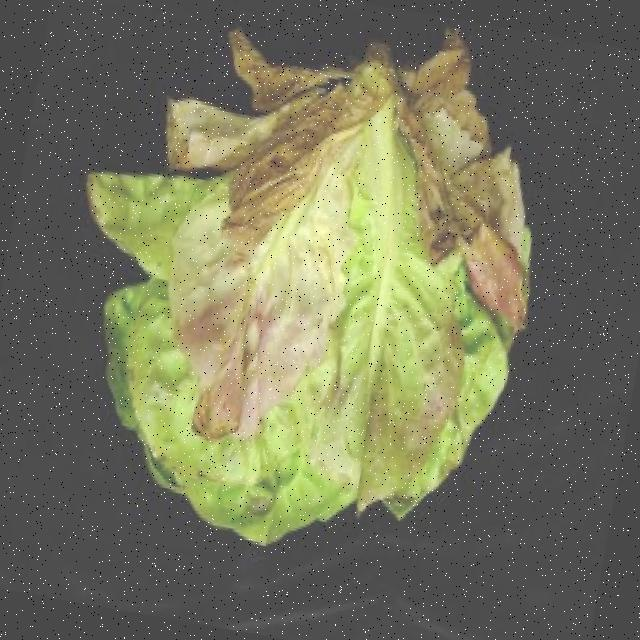Downy_Mildew: (83, 4, 566, 576)
